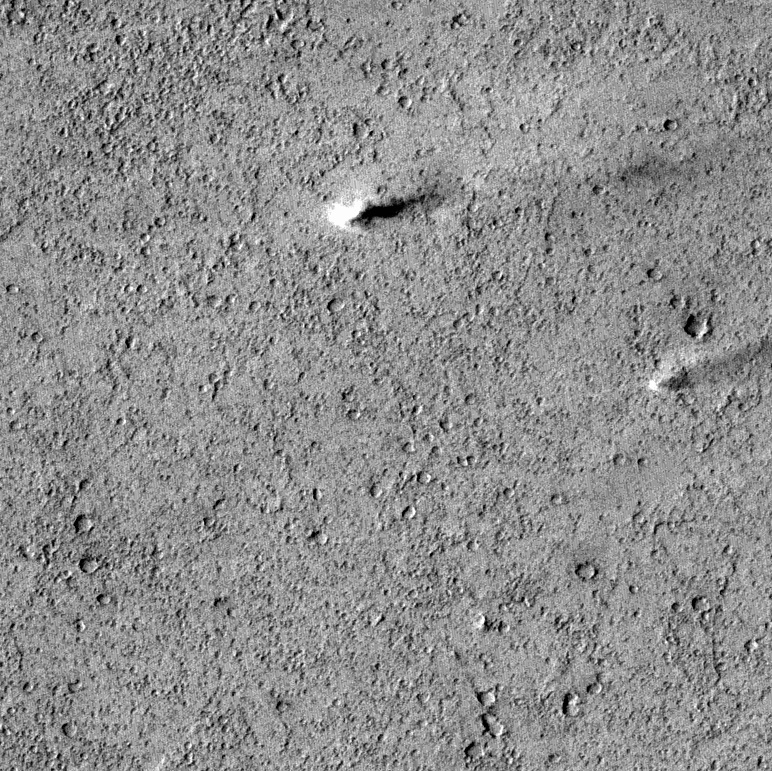dust_devil: (646, 333, 770, 396), (325, 190, 447, 233)
